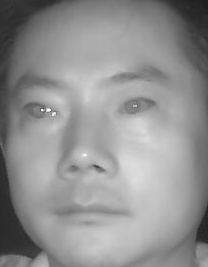eye: (112, 95, 155, 120), (20, 99, 59, 122)
mouth: (55, 188, 126, 234)
